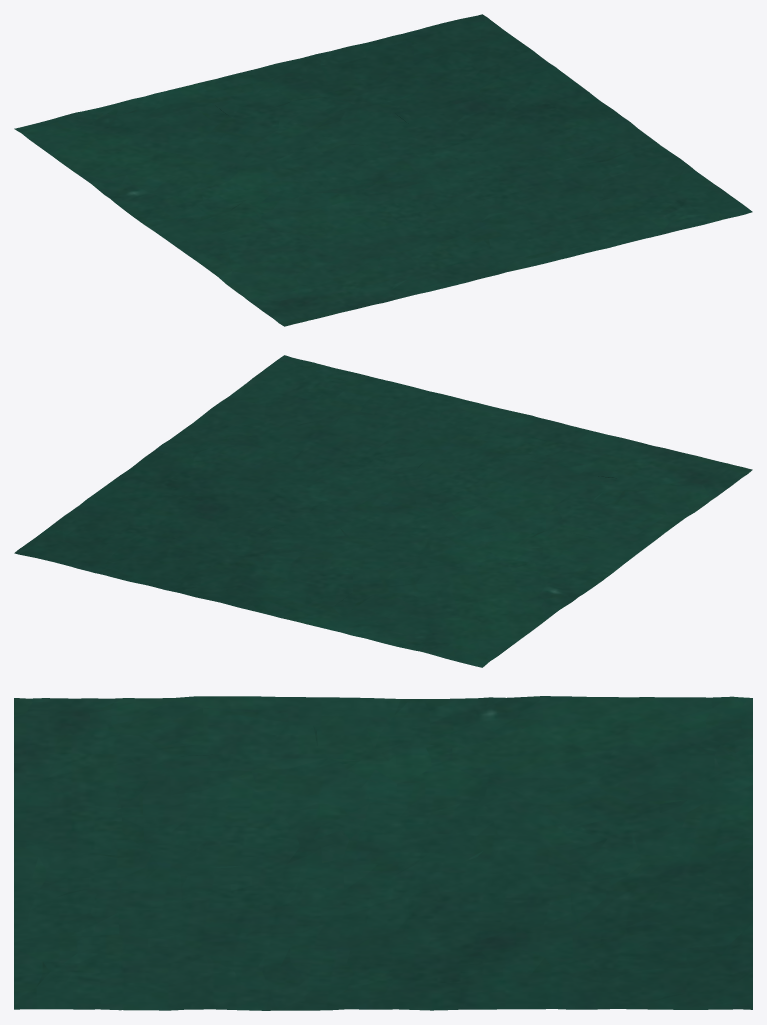
3 views of the same model, one above another, from view 1: azimuth 30°, elevation 25°; view 2: azimuth 150°, elevation 25°; view 3: azimuth 270°, elevation 25° (orthographic). The views are drawn at different scales.
Size of the model in its own units: 104 by 0.5264 by 104.
2 materials, 2 textured.
